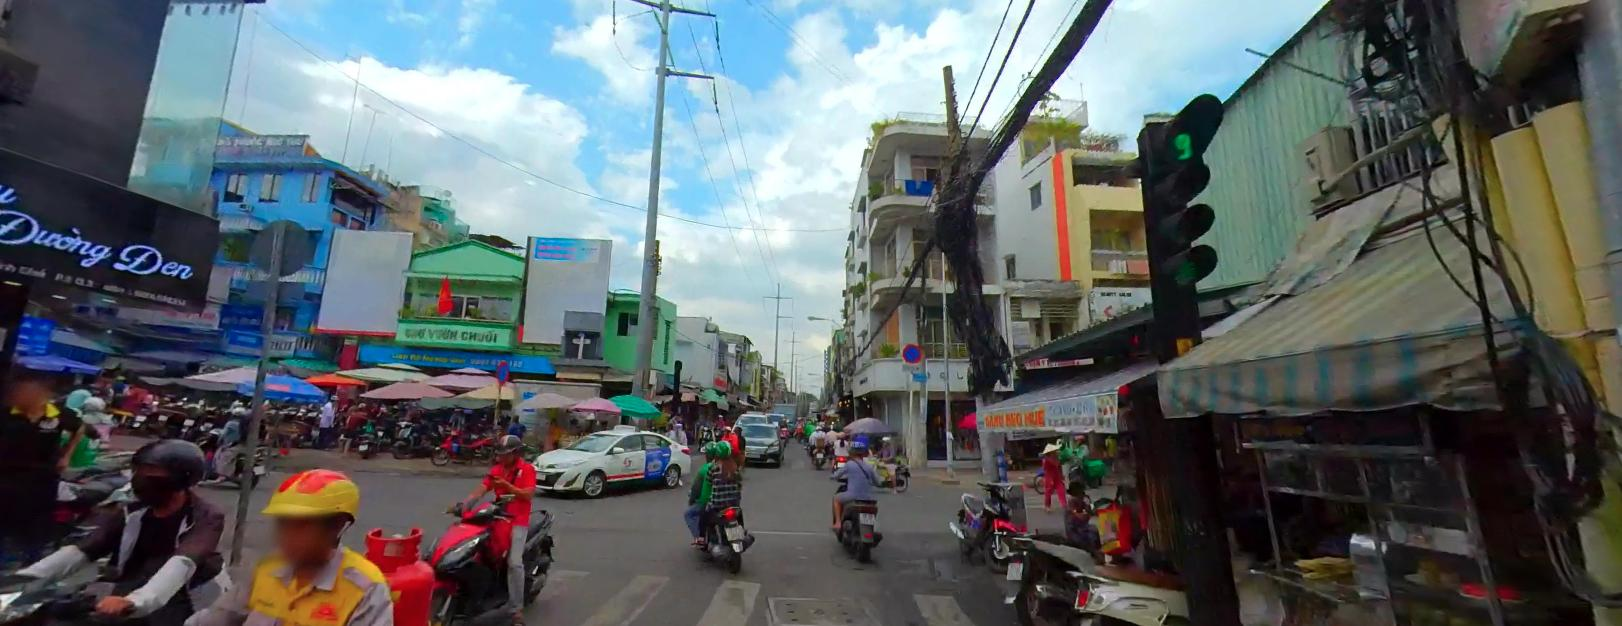Cam dung va do: (901, 342, 920, 361), (495, 359, 509, 381)
